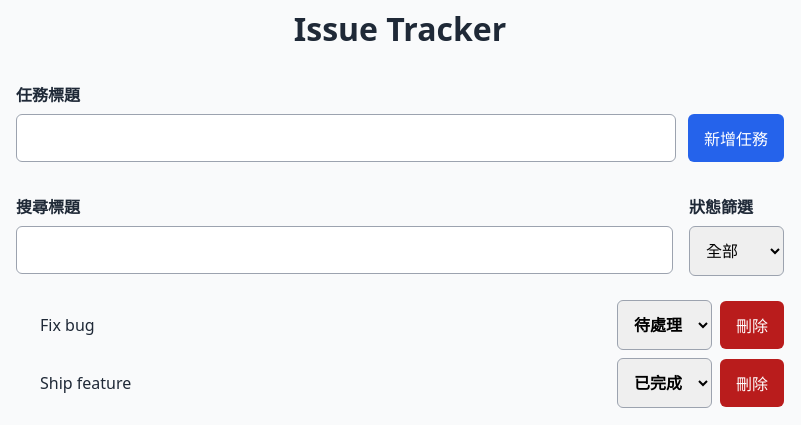
Test: App › 搜尋和狀態篩選採 AND，無結果時顯示明確訊息
Type "bug" into the search field labelled "搜尋標題" at (344, 250), box left=16, top=226, right=673, bottom=274
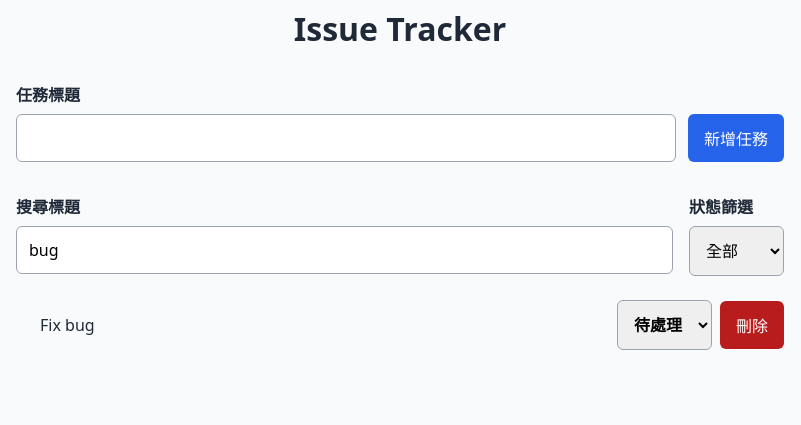
Select "已完成" in the dropdown labelled "狀態篩選" at (736, 251), box left=689, top=226, right=784, bottom=276
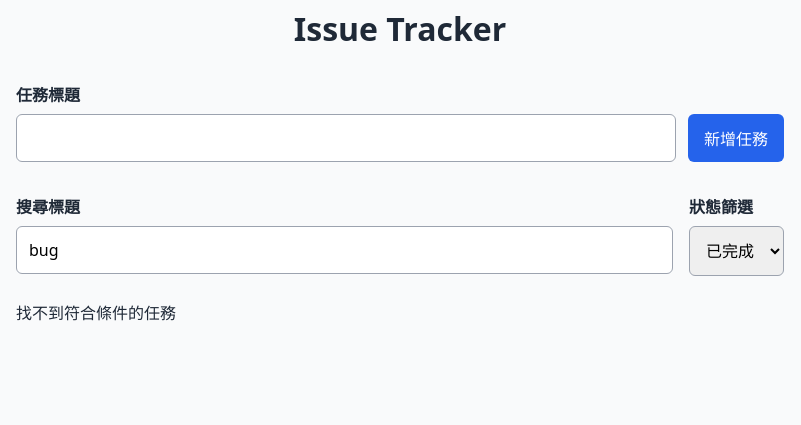
Expected: the list is gone
Expected: the text "找不到符合條件的任務" is shown, left=16, top=302, right=176, bottom=324
